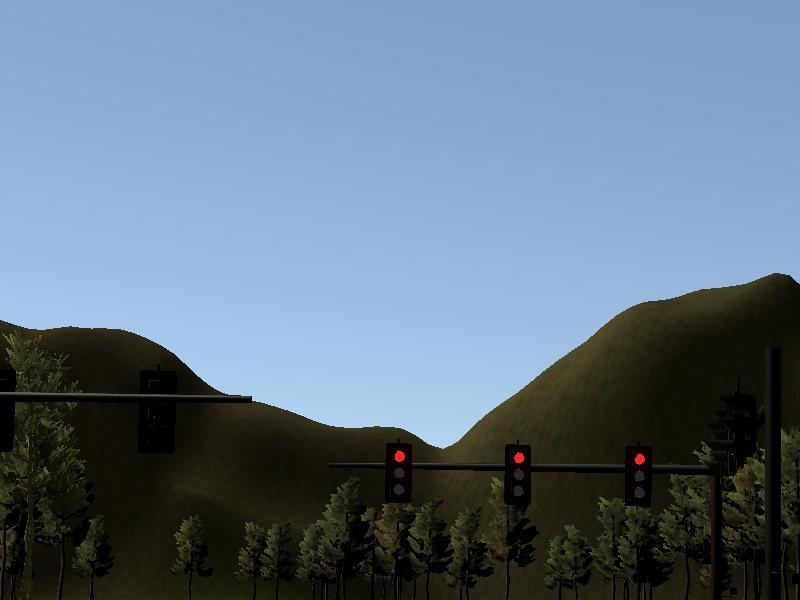RED: (384, 442, 415, 501), (502, 443, 533, 502), (621, 447, 652, 506)
